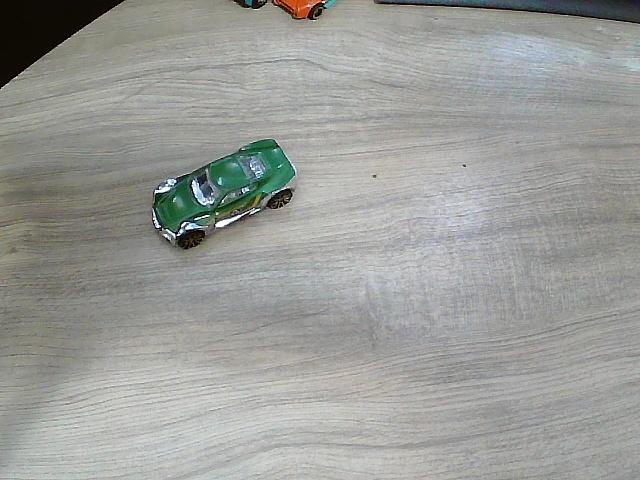Carro: (152, 140, 297, 249), (236, 0, 340, 20)
